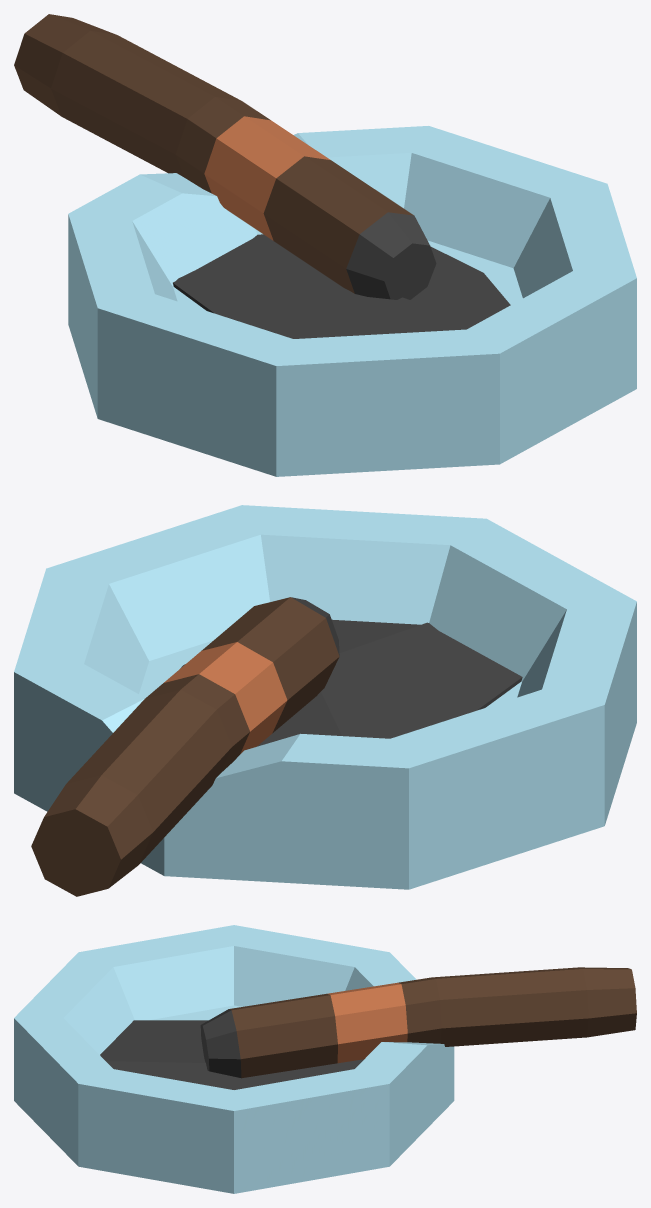
File: Tobacco_Holder.fbx
3 views of the same model, one above another, from view 1: azimuth 30°, elevation 25°; view 2: azimuth 150°, elevation 25°; view 3: azimuth 270°, elevation 25° (orthographic). The views are drawn at different scales.
Parts seen in each view (by area): view 1: Cylinder.003; view 2: Cylinder.003; view 3: Cylinder.003.
Part boxes in pixels (box(x1,y1,x2,y2)): Cylinder.003: box(14, 14, 636, 476); Cylinder.003: box(14, 505, 636, 896); Cylinder.003: box(14, 925, 636, 1193).
Bounding box in the file's own units: 64.75 × 19.7 × 91.62.
